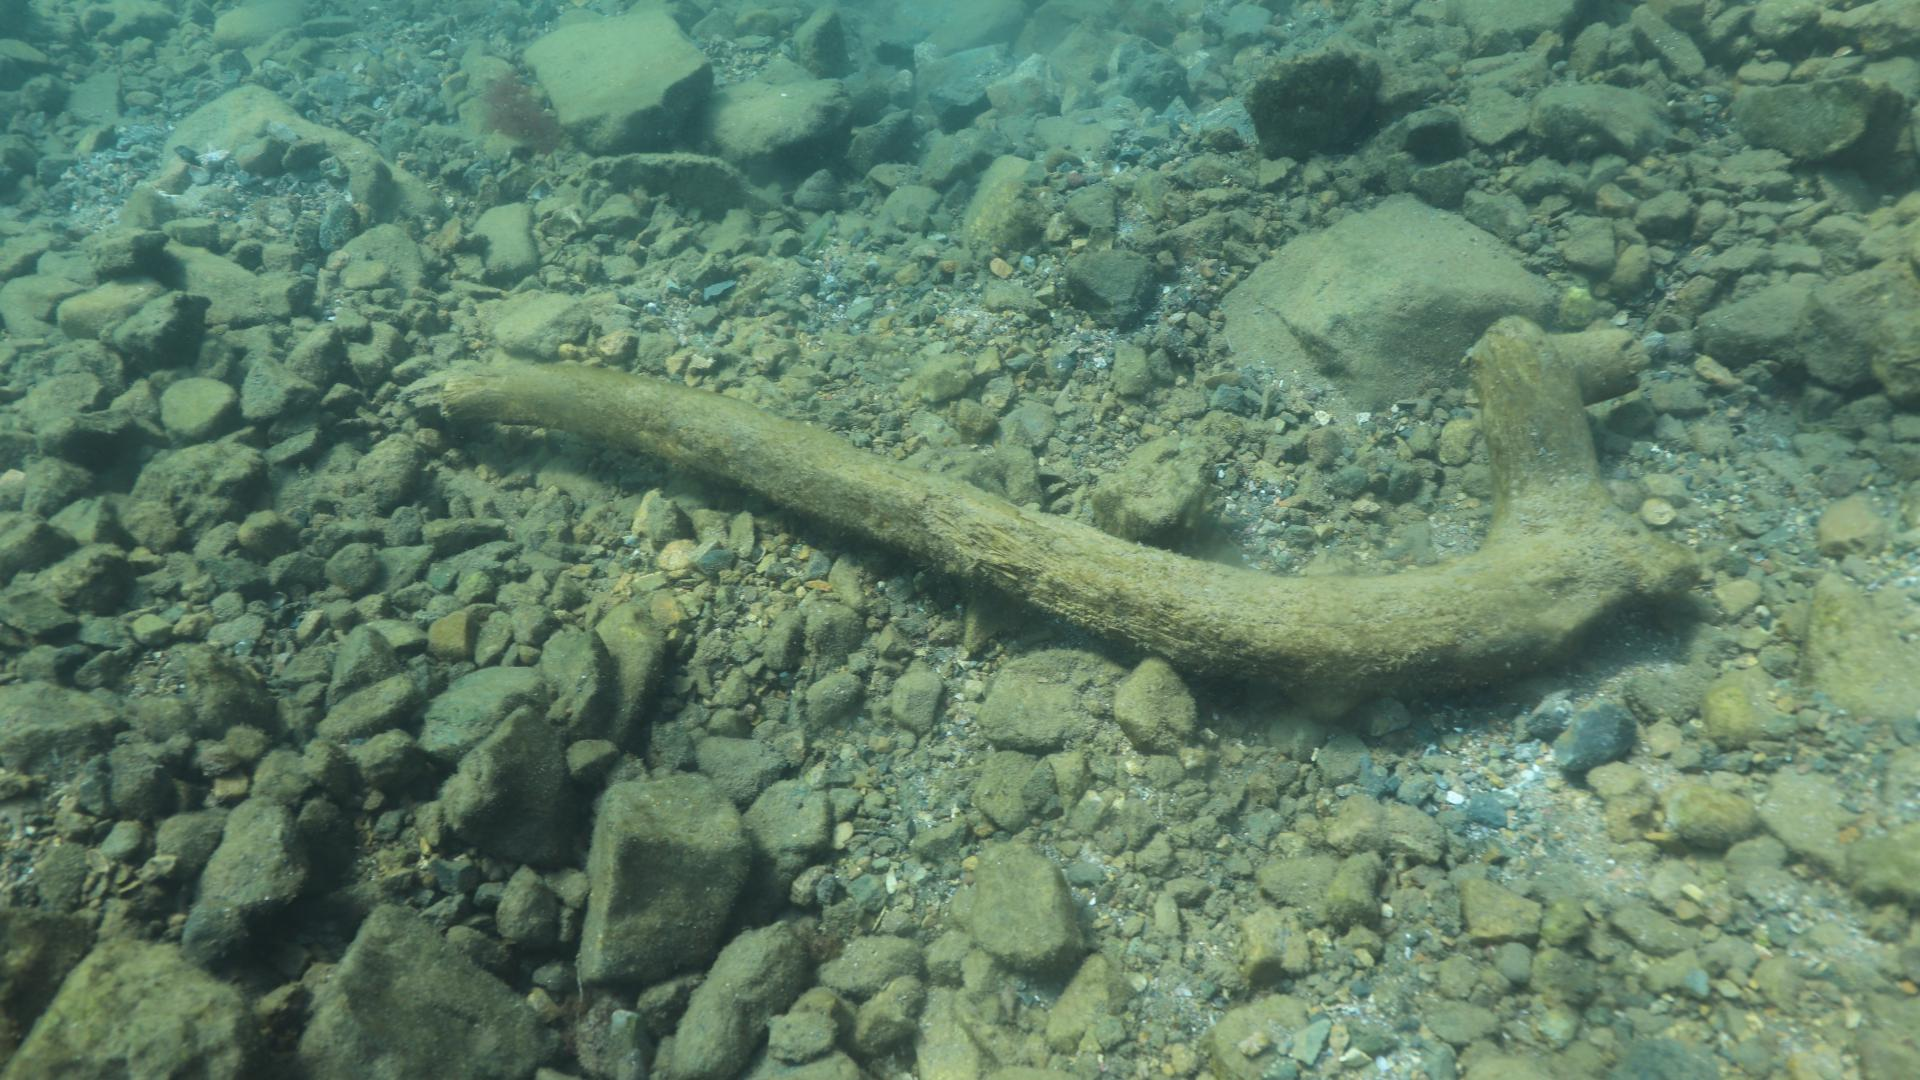wood: (396, 311, 1704, 690)
